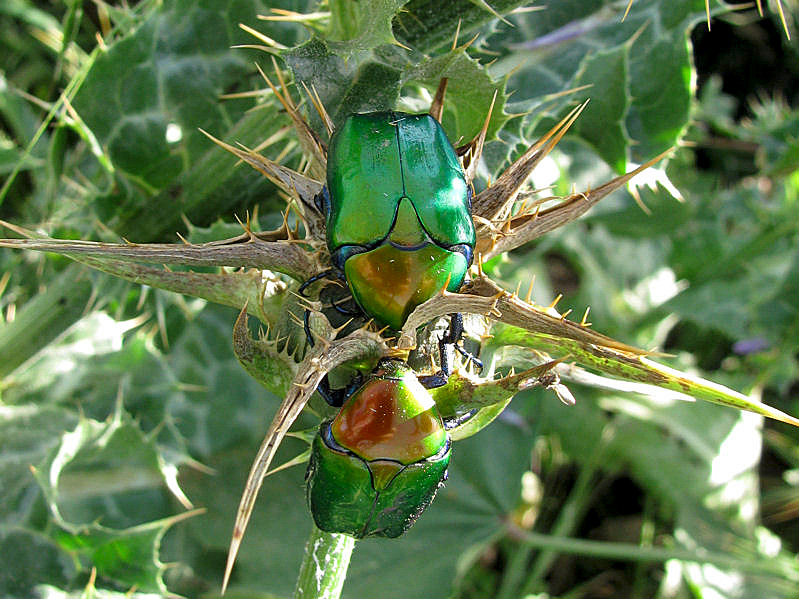Protaetia_cuprea_ignicollis: (314, 93, 498, 344), (284, 338, 460, 549)
